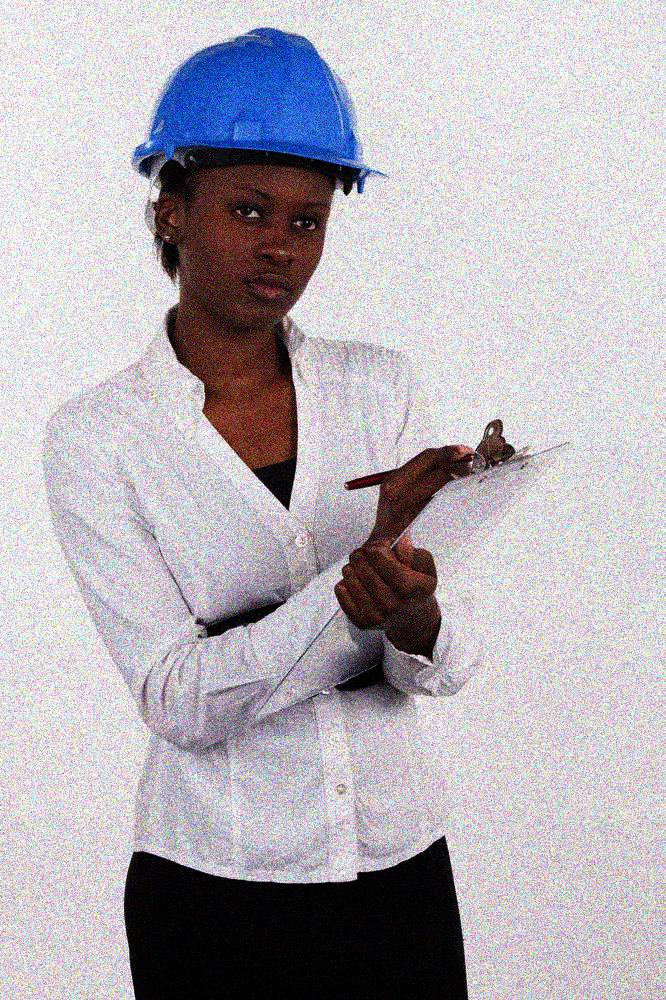helmet: (129, 24, 389, 329)
